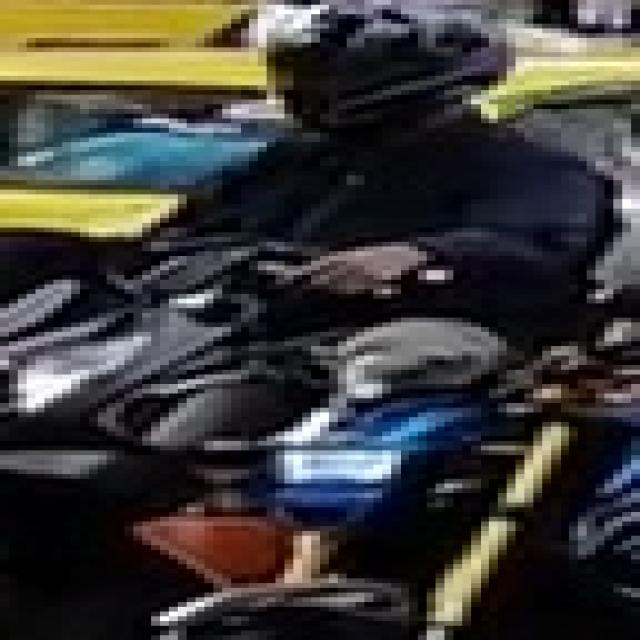door: (0, 0, 631, 635)
helmet: (249, 0, 507, 133)
